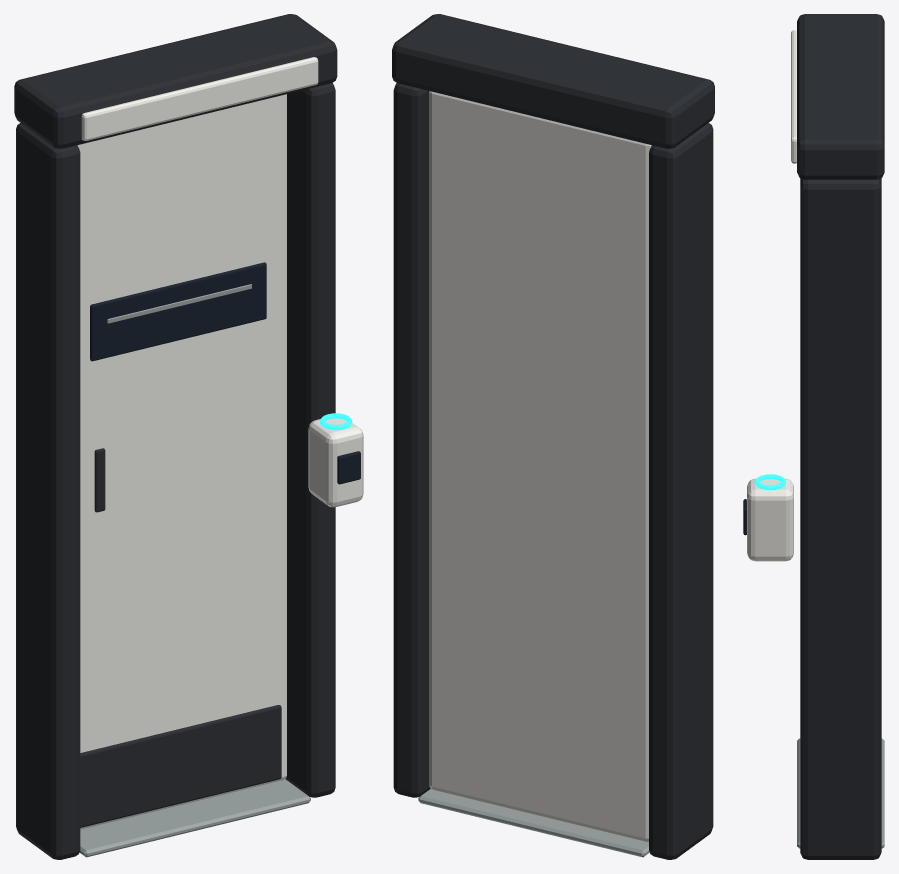
File: net_door.glb
3 renders of one model, left to right at view 1: azimuth 30°, elevation 25°; view 2: azimuth 150°, elevation 25°; view 3: azimuth 270°, elevation 25°, orthographic. The views are drawn at different scales.
Visible parts, largest first — view 1: door_slide_mesh, net_door_mesh; view 2: door_slide_mesh, net_door_mesh; view 3: net_door_mesh.
Part boxes in pixels (bbox=[...]): door_slide_mesh: bbox=[77, 94, 286, 829]; net_door_mesh: bbox=[14, 14, 363, 859]; door_slide_mesh: bbox=[429, 91, 651, 841]; net_door_mesh: bbox=[392, 14, 714, 859]; net_door_mesh: bbox=[743, 14, 884, 859].
Bounding box in the file's own units: 1 × 2.54 × 0.452.
